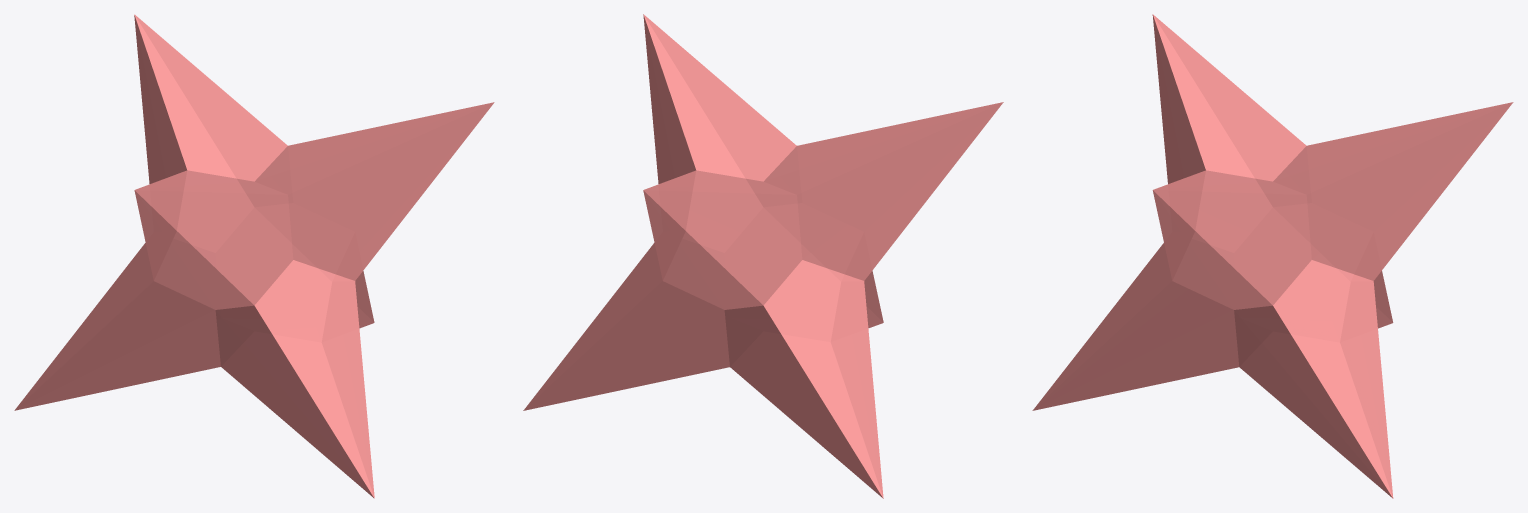
Rendered from octa_kites.obj.
The picture shows the model from 3 angles, left to right: view 1: azimuth 30°, elevation 25°; view 2: azimuth 150°, elevation 25°; view 3: azimuth 270°, elevation 25°; orthographic projection.
Size of the model in its own units: 10.38 by 8.5 by 12.
